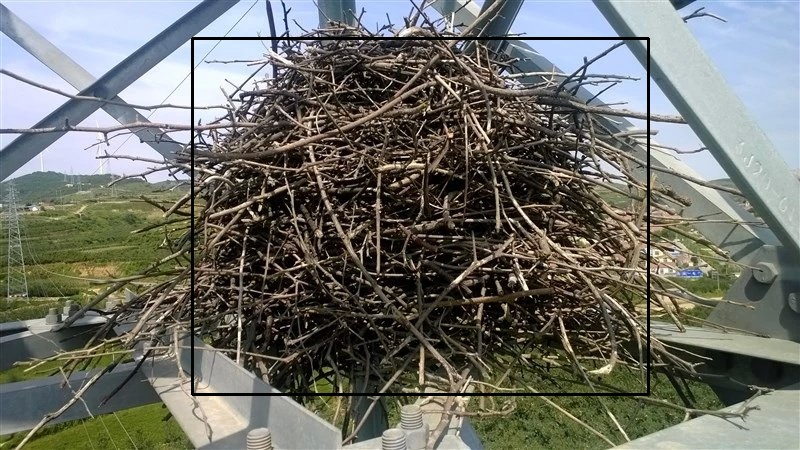bird-nest: (192, 38, 648, 394)
